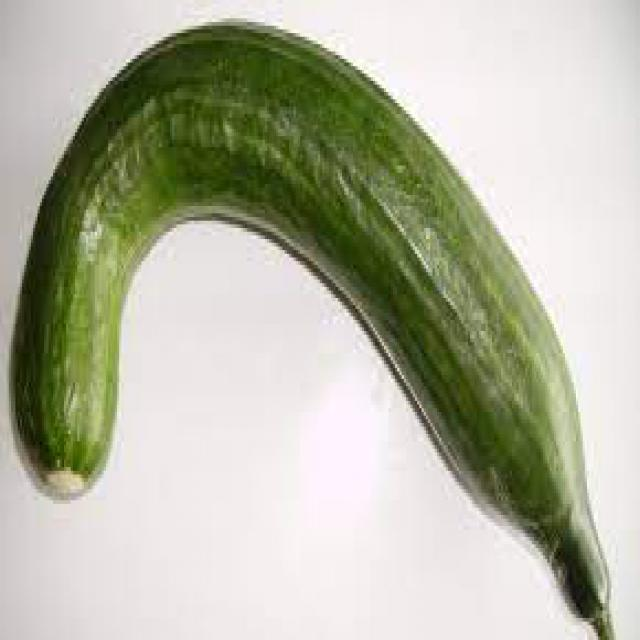cucumber: (5, 7, 622, 640)
